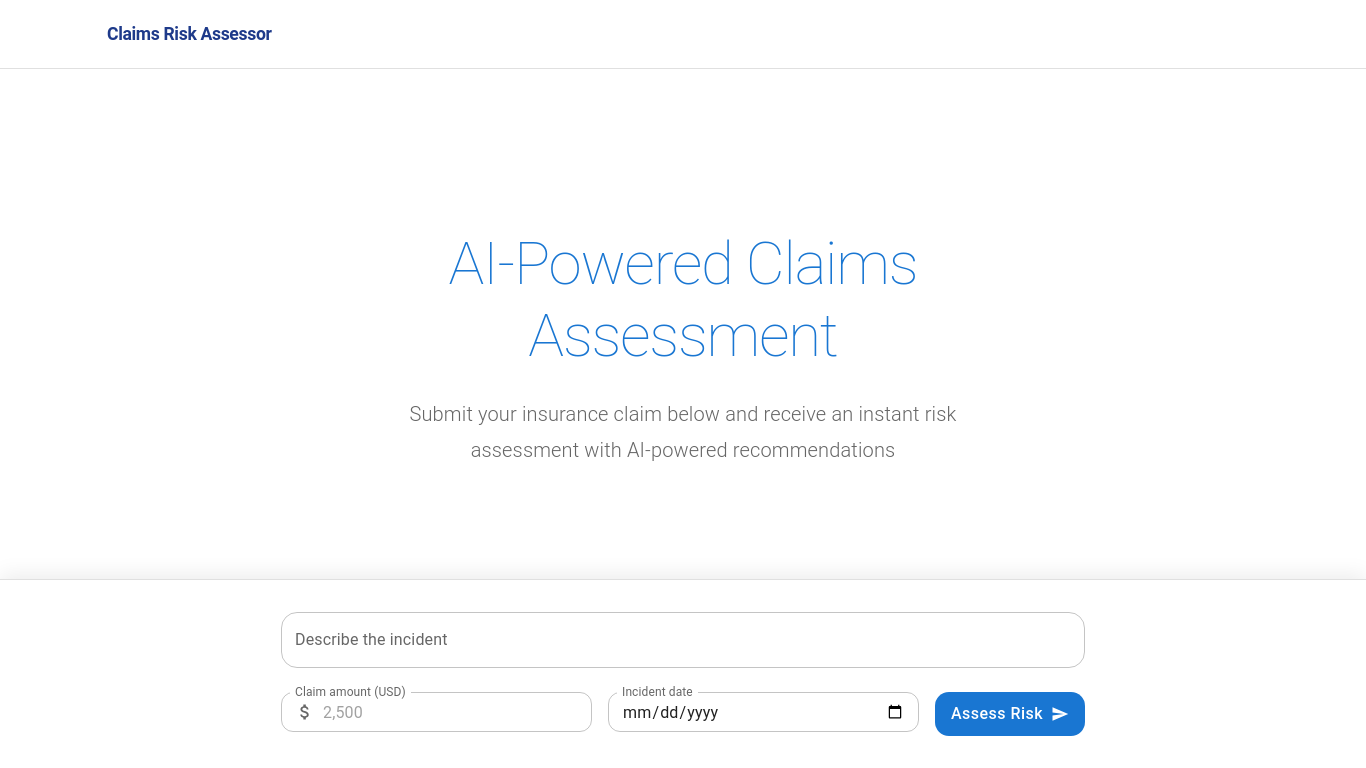
HomePage - Integration Test › should fill form, submit, and display results
The image size is (1366, 768).
Expected: the heading "AI-Powered Claims Assessment" is shown, [448,228,918,370]
Type "5000" into the number field labelled "Claim amount (USD)".
click(458, 712); type("5000")  # box [323,692,592,732]
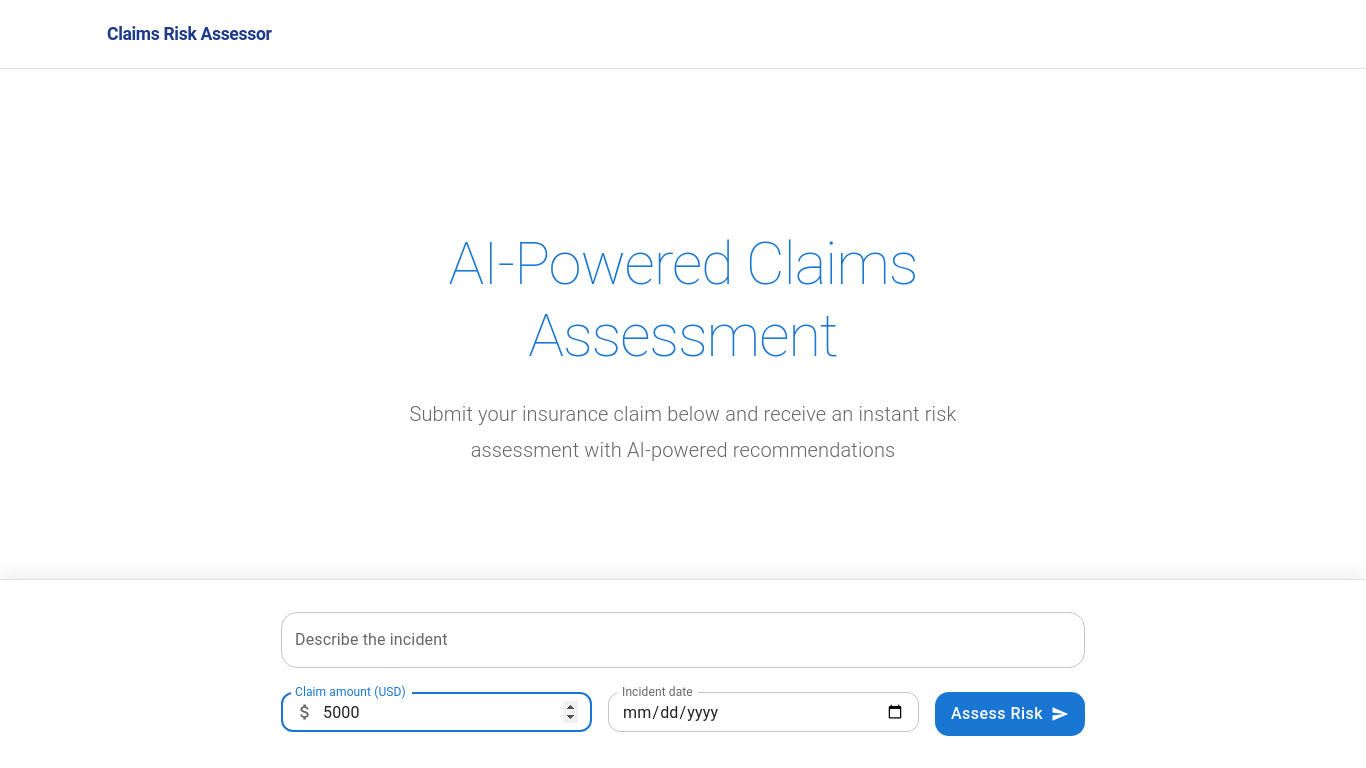
Type "2024-01-15" into the date field labelled "Incident date".
click(764, 712); type("2024-01-15")  # box [608,692,919,732]
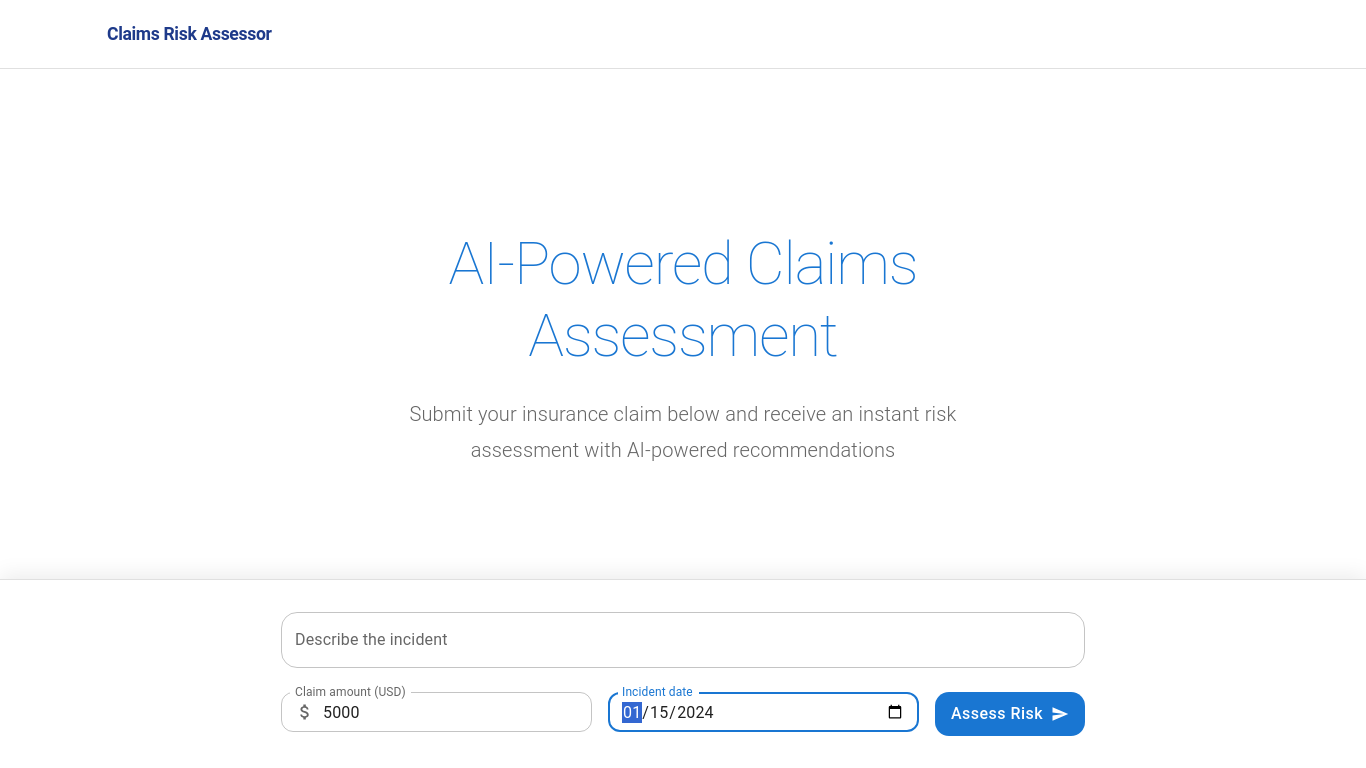
Type "Car accident with severe damage" into the text box labelled "Describe the incident".
click(683, 640); type("Car accident with severe damage")  # box [295,628,1071,652]
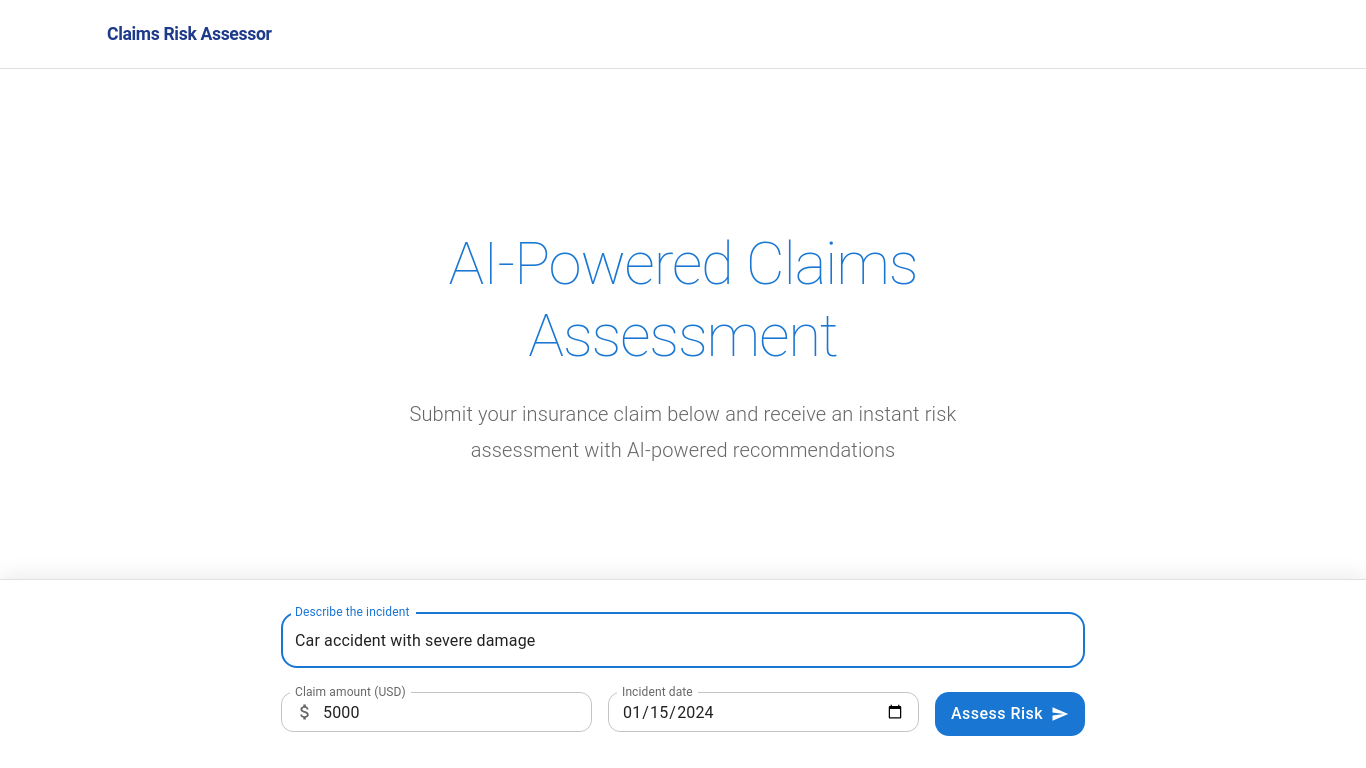
Submit the form
Click the button "Assess Risk".
click(1010, 714)  # box [935,692,1085,736]
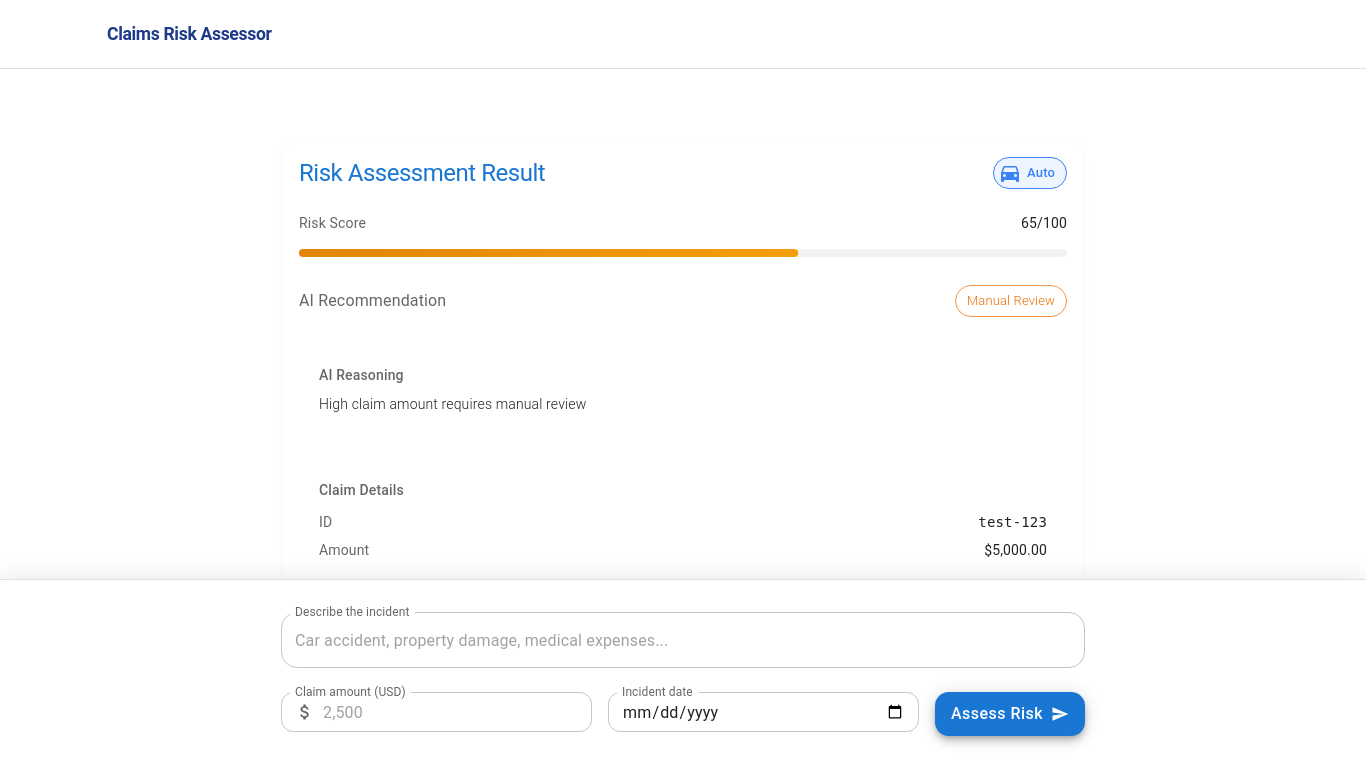
Expected: the heading "Risk Assessment Result" is shown, [299,157,545,189]
Expected: the text "65/100" is shown, [1021,213,1067,233]
Expected: the text "Manual Review" is shown, [967,293,1055,308]
